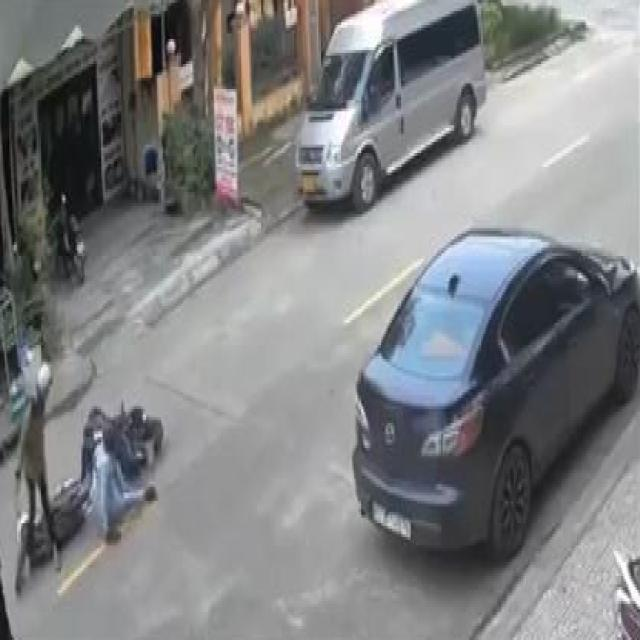accident: (10, 355, 170, 611)
